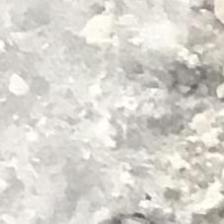Non_Crack: (15, 29, 112, 180)
